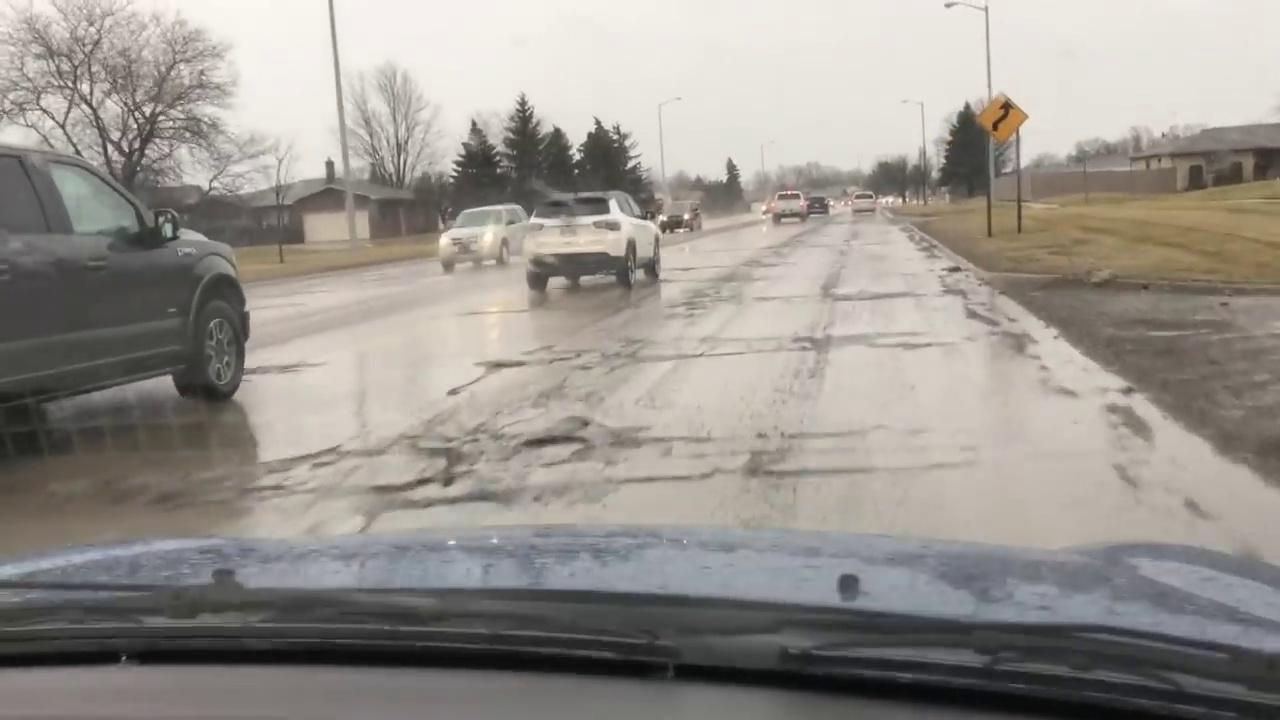pothole: (376, 430, 470, 495), (475, 358, 529, 372), (521, 435, 580, 447)
